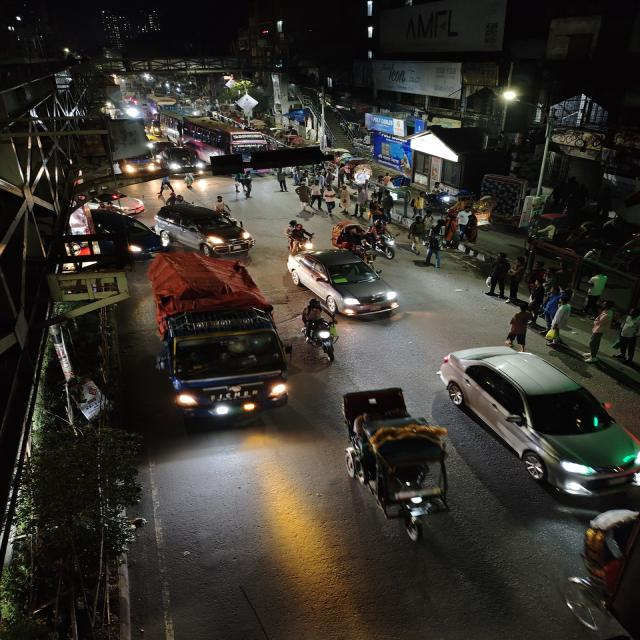bicycle: (233, 170, 255, 198)
bus: (180, 118, 272, 162), (159, 110, 191, 142), (148, 97, 177, 113)
car: (434, 340, 639, 500), (292, 247, 404, 320), (154, 203, 255, 257), (92, 208, 170, 258), (159, 147, 203, 175)
motorcycle: (296, 296, 342, 362), (337, 223, 376, 257), (284, 220, 315, 254)
pedestrian: (585, 300, 621, 362), (502, 307, 537, 351), (545, 299, 577, 346), (616, 308, 640, 364), (483, 252, 510, 300), (582, 270, 610, 316), (501, 254, 526, 302), (538, 284, 564, 322), (405, 214, 428, 254), (424, 226, 445, 267), (366, 197, 391, 231), (348, 182, 367, 220), (526, 259, 549, 290), (293, 181, 314, 211), (320, 186, 340, 217), (445, 222, 465, 252), (337, 184, 354, 214), (156, 176, 178, 199), (410, 190, 428, 218), (309, 180, 322, 209), (273, 171, 288, 193), (166, 193, 183, 205)
pickup_van: (121, 152, 159, 177)
rickshaw: (335, 384, 457, 546)
truck: (142, 253, 287, 429)
